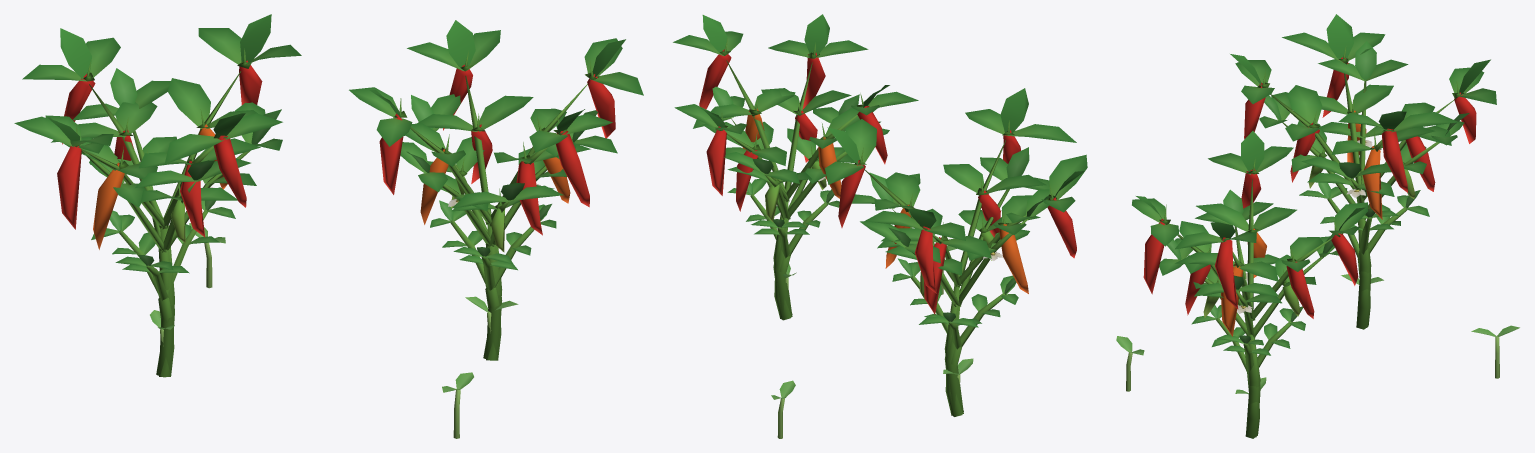
3 views of the same model, side by side, from view 1: azimuth 30°, elevation 25°; view 2: azimuth 150°, elevation 25°; view 3: azimuth 270°, elevation 25° (orthographic). The views are drawn at different scales.
Parts seen in each view (by area): view 1: stage3, stage2, stage1, stage0; view 2: stage3, stage2, stage1, stage0; view 3: stage3, stage2, stage1, stage0.
Boxes of the visible parts, x1,y1,x2,y2 form: stage3: (14, 14, 643, 376); stage2: (45, 68, 617, 369); stage1: (91, 187, 556, 377); stage0: (150, 223, 518, 438); stage3: (673, 14, 1087, 415); stage2: (693, 86, 1050, 416); stage1: (727, 178, 1018, 416); stage0: (771, 245, 973, 438); stage3: (1132, 14, 1496, 437); stage2: (1159, 41, 1469, 436); stage1: (1191, 182, 1429, 438); stage0: (1116, 274, 1519, 394).
Size of the model in its own units: 1.22 by 0.7115 by 0.9538.
